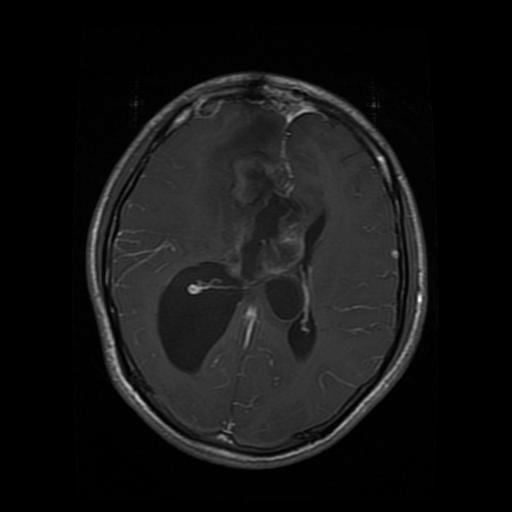Tumour-Glioma: (208, 138, 299, 239)
